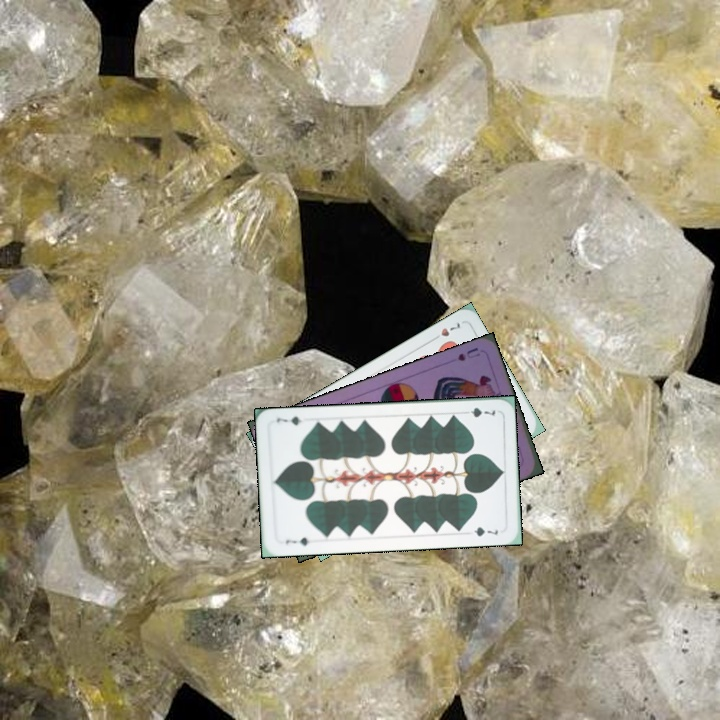G7: (458, 404, 498, 420), (281, 533, 312, 548)
H7: (427, 318, 463, 344)
SU: (454, 343, 483, 364)
